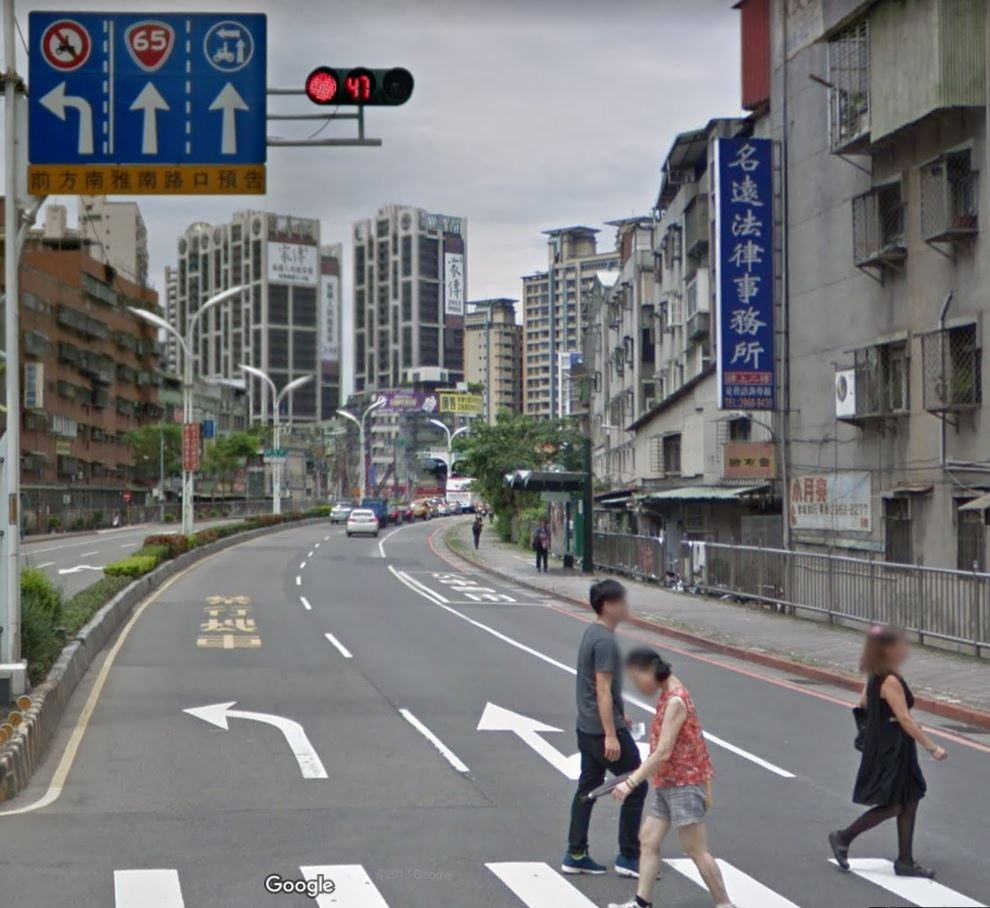Traffic_light_red: (304, 64, 416, 109)
